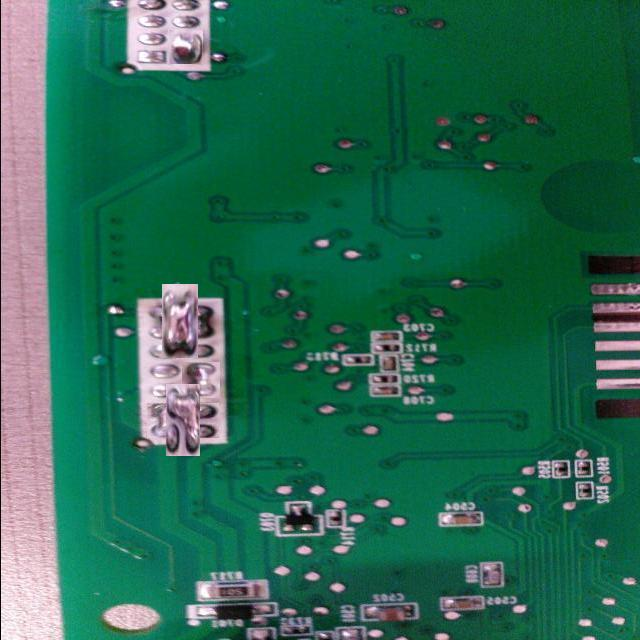Short_circuit: (152, 294, 207, 349), (156, 394, 210, 447), (182, 362, 220, 398), (168, 30, 202, 65)
